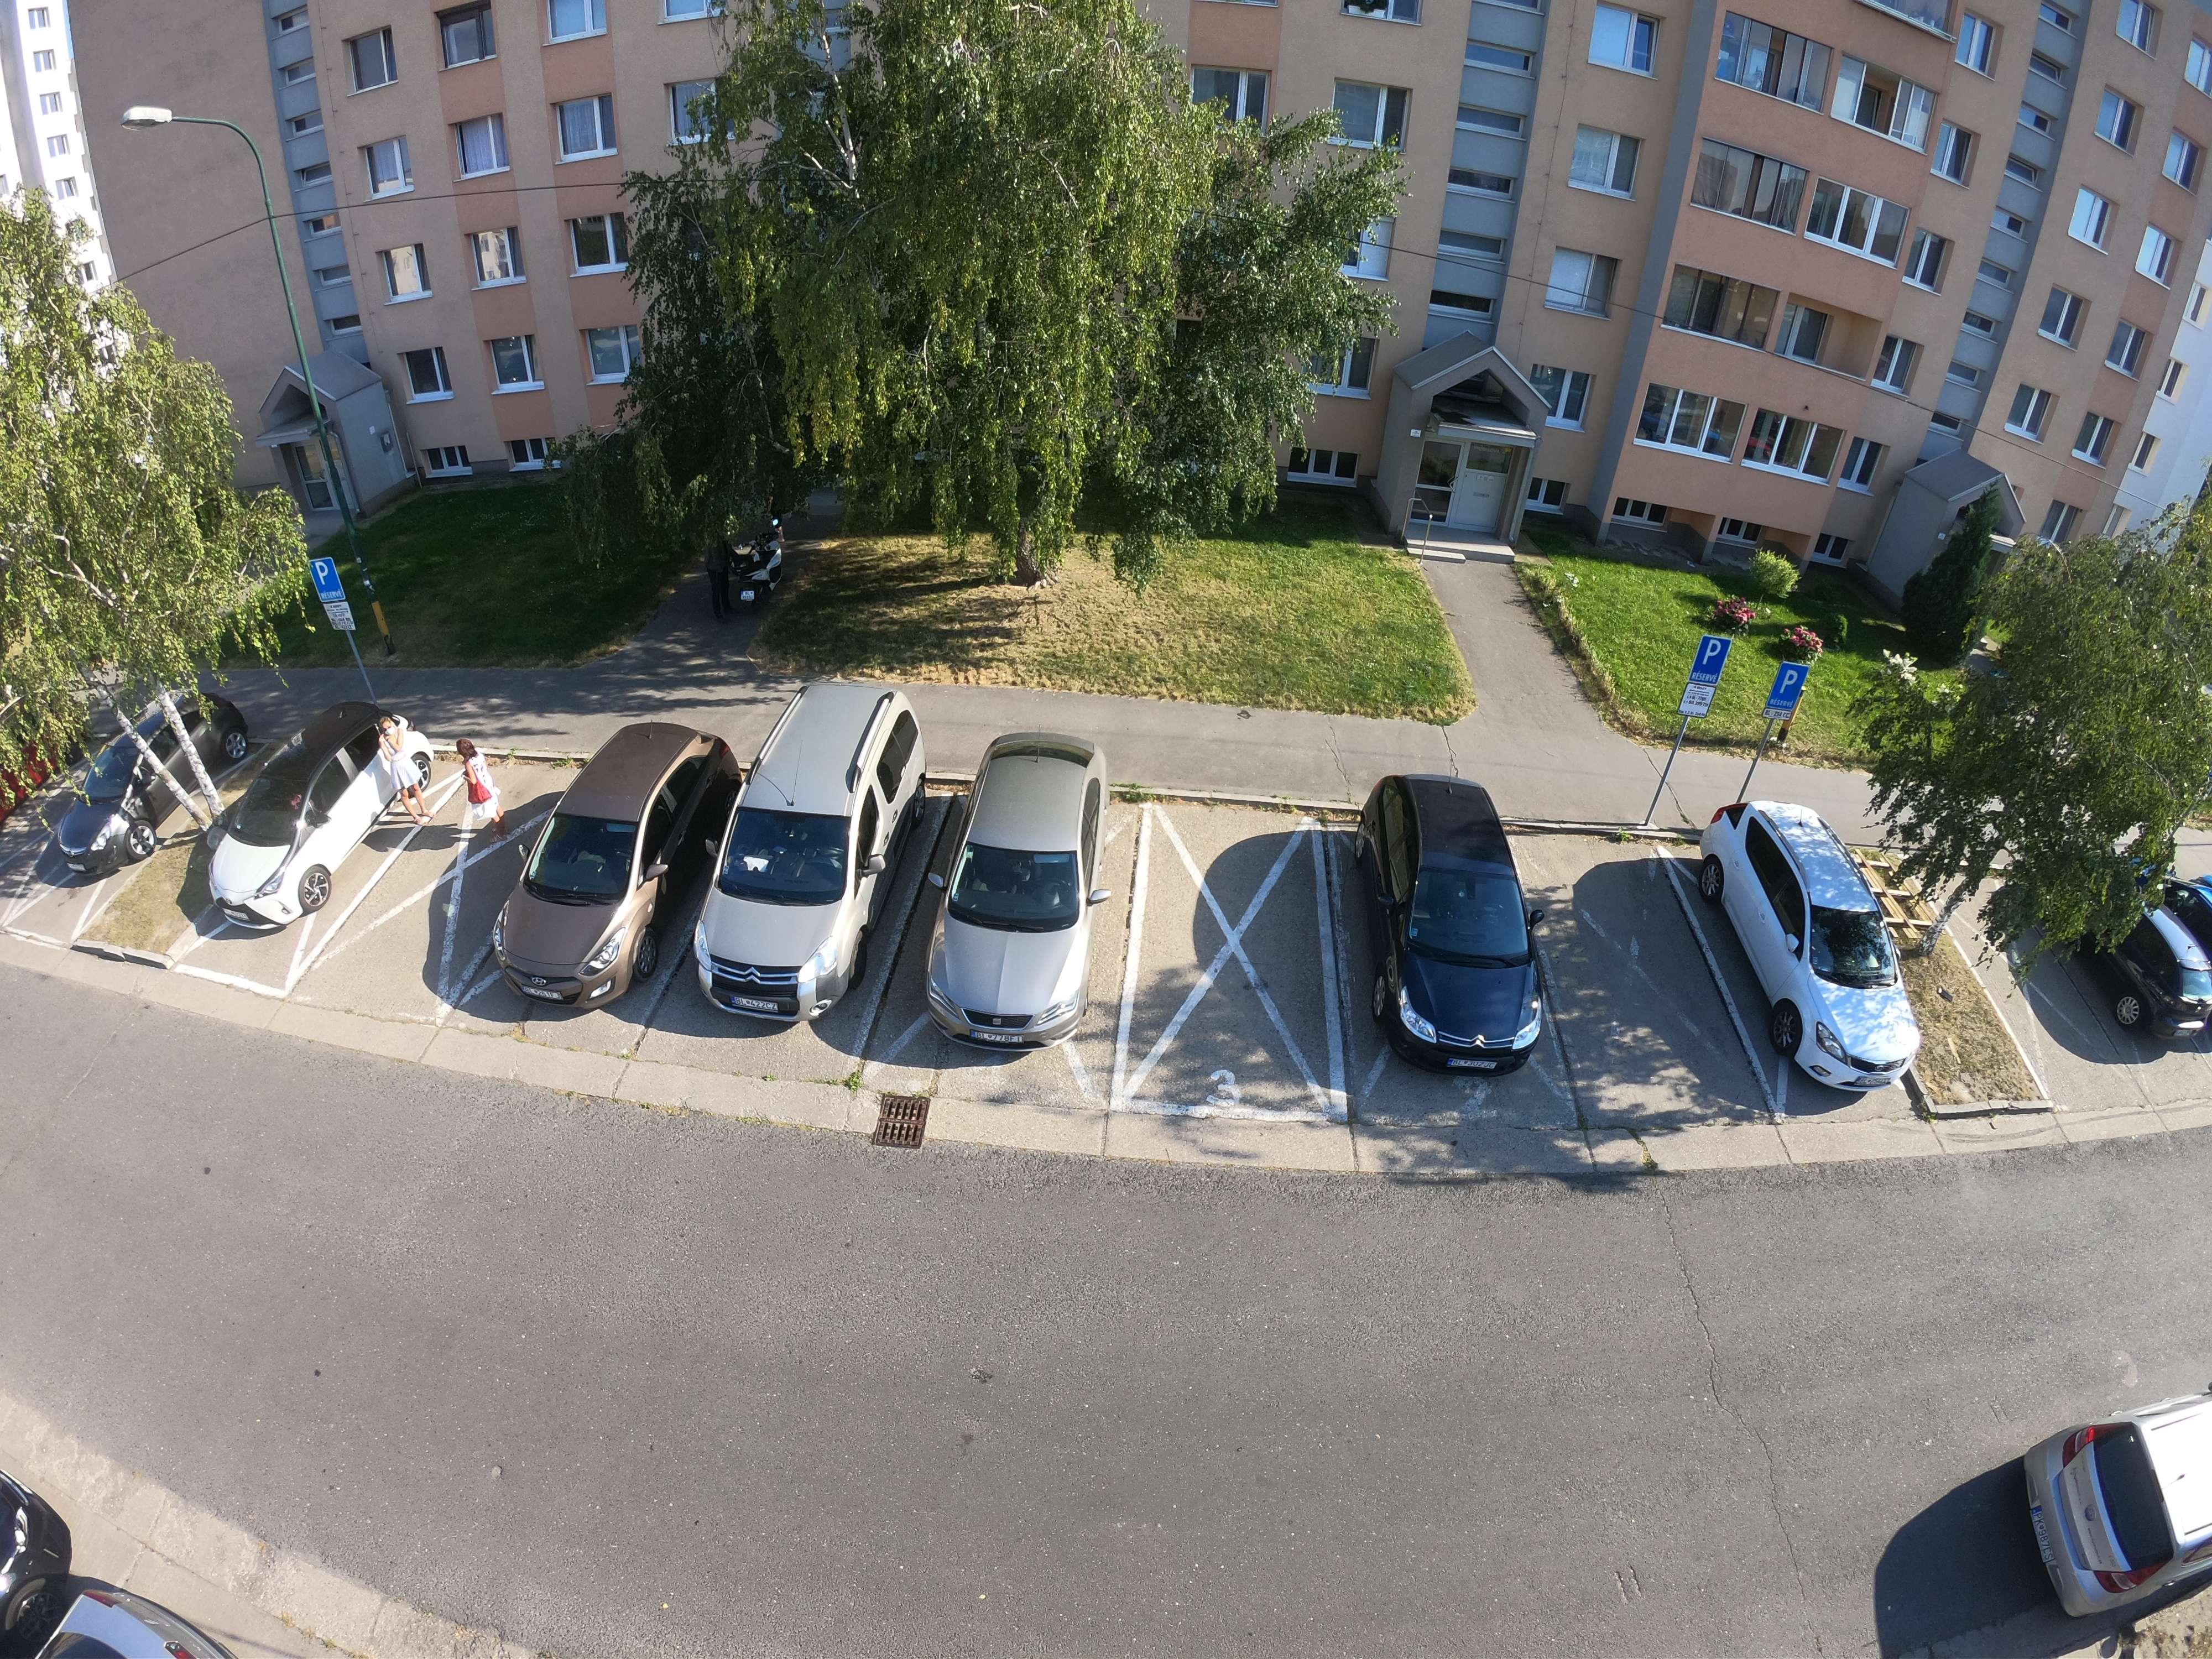empty: (669, 692, 914, 1025), (1895, 1387, 2212, 1629), (913, 720, 1132, 1046), (157, 680, 423, 934), (1702, 793, 1926, 1093), (1346, 769, 1568, 1063), (475, 730, 716, 1000), (2114, 847, 2212, 1054)
occupied: (1162, 871, 1313, 1075), (1566, 924, 1703, 1093), (387, 824, 507, 946)
